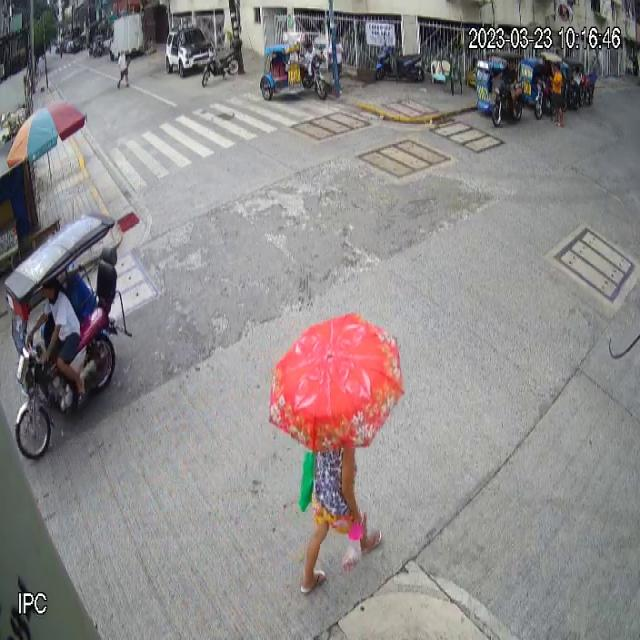Tricycle: (0, 211, 135, 463), (260, 30, 328, 100), (475, 51, 526, 128)
